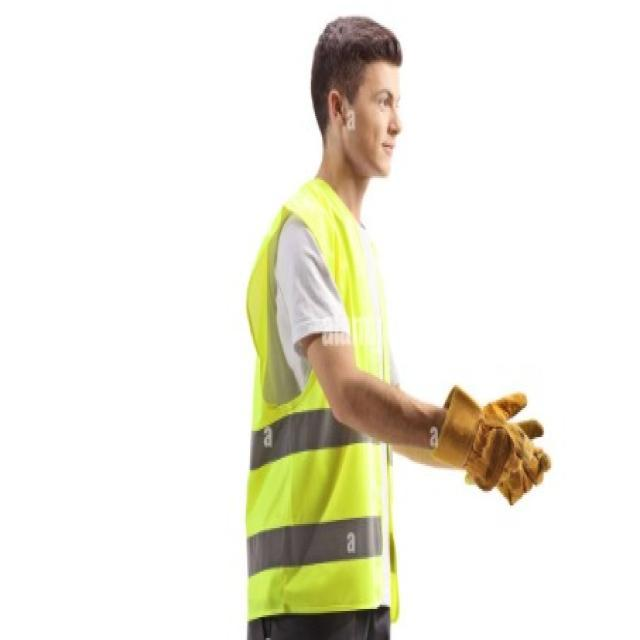gloved: (432, 380, 551, 506)
